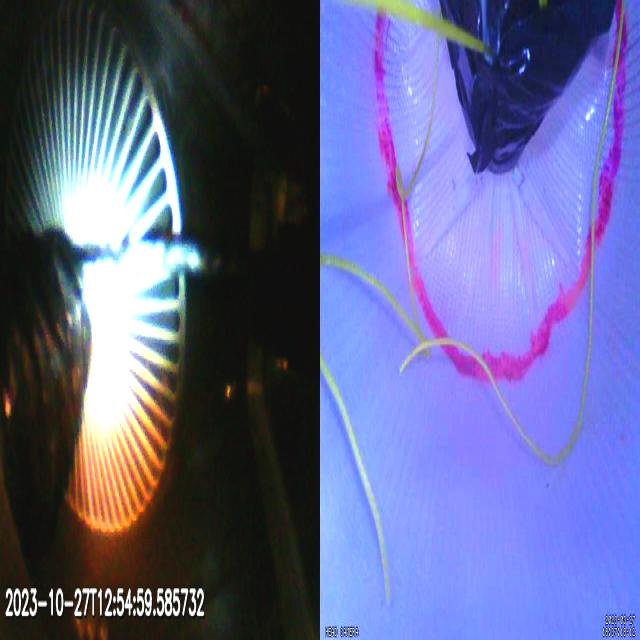red-circle: (373, 0, 629, 385)
